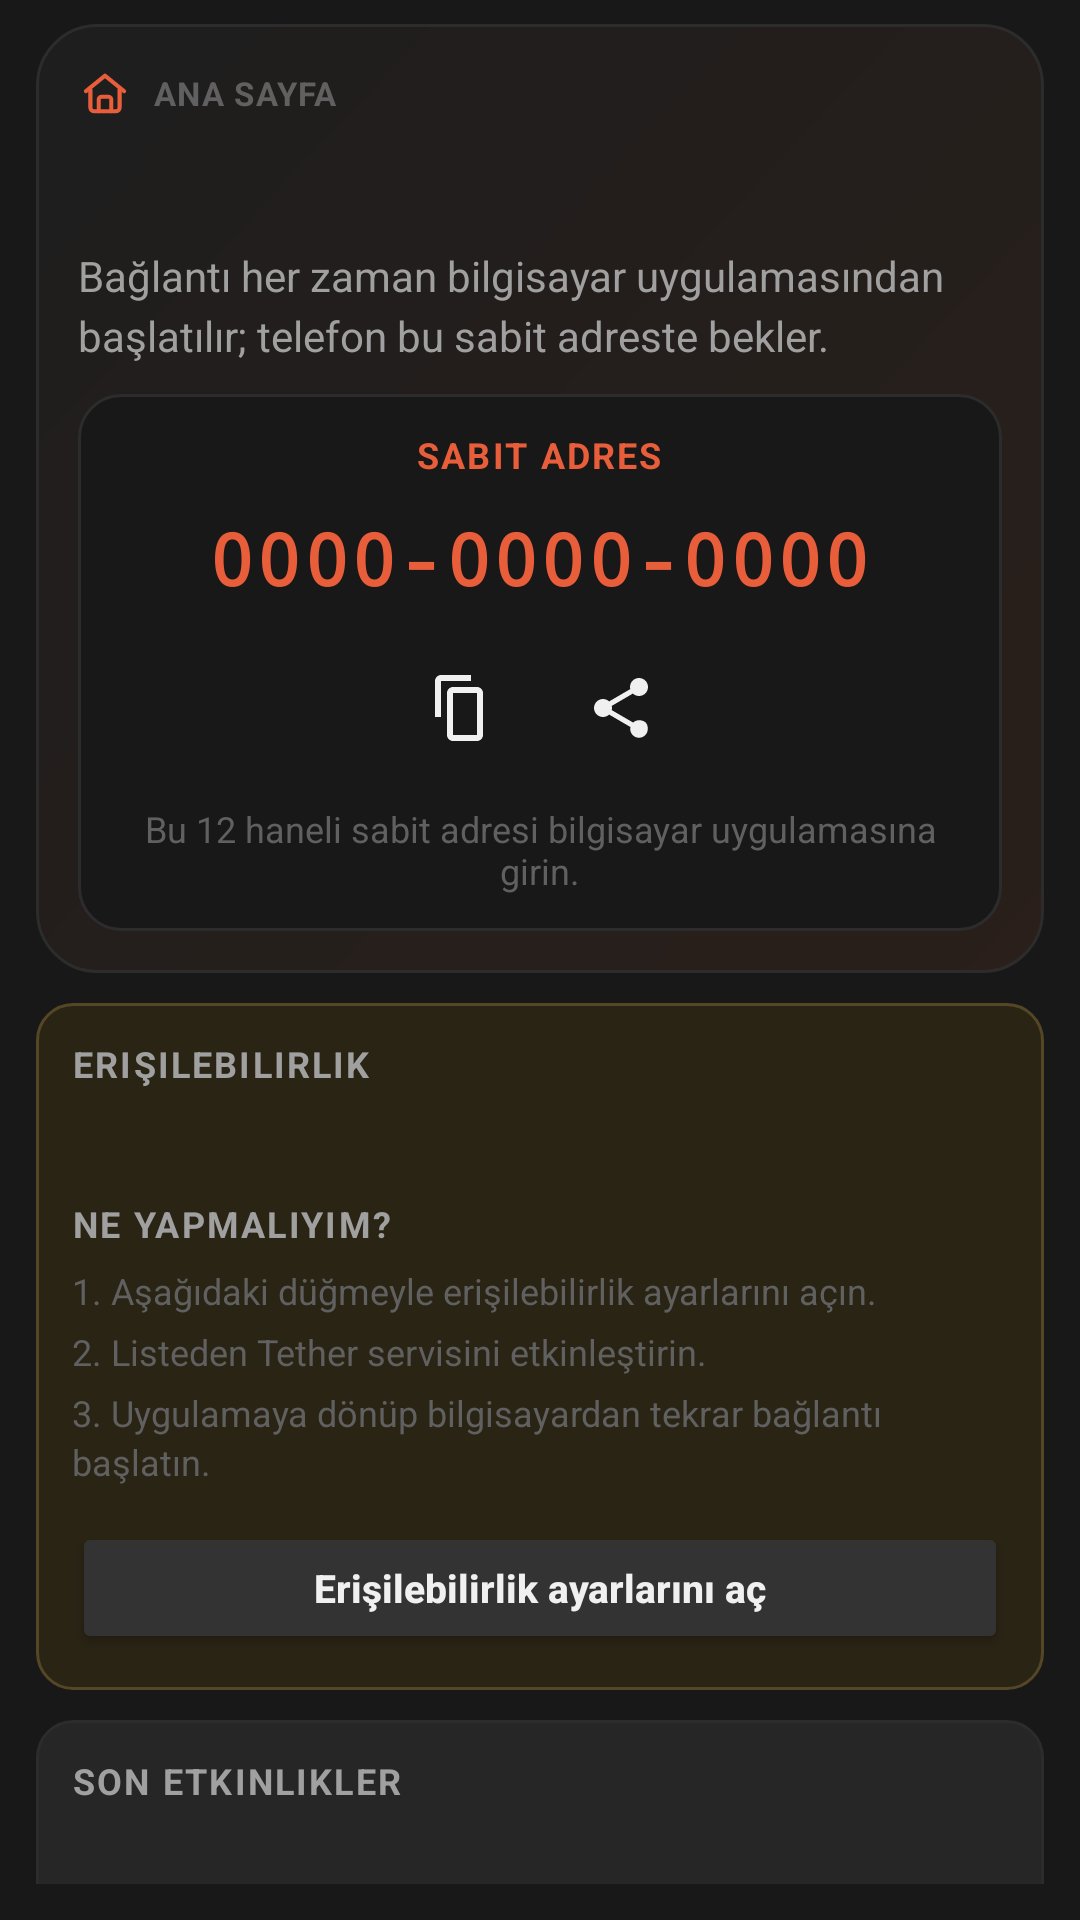

Point at icon controls on the screen. Image size 1080 x 1920, points as [x,y].
Kopyala: [459,708]
Paylaş: [621,708]
